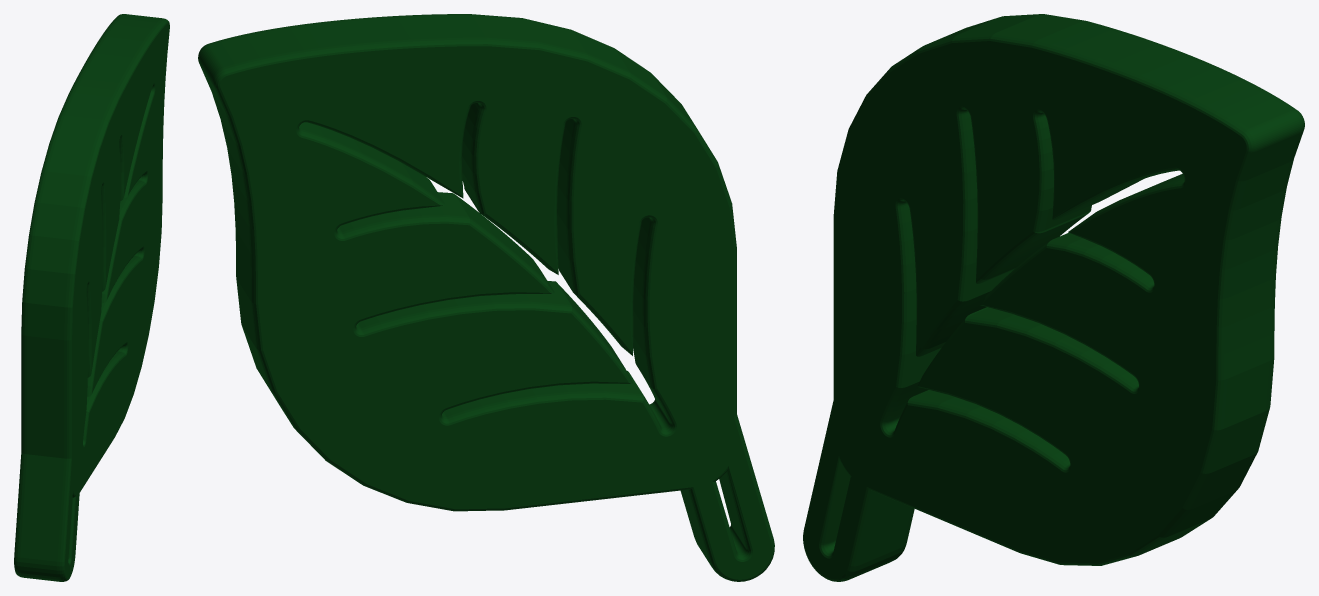
File: leaf.glb
3 views of the same model, side by side, from view 1: azimuth 30°, elevation 25°; view 2: azimuth 150°, elevation 25°; view 3: azimuth 270°, elevation 25° (orthographic). The views are drawn at different scales.
Bounding box in the file's own units: 72.62 × 101 × 72.62.
